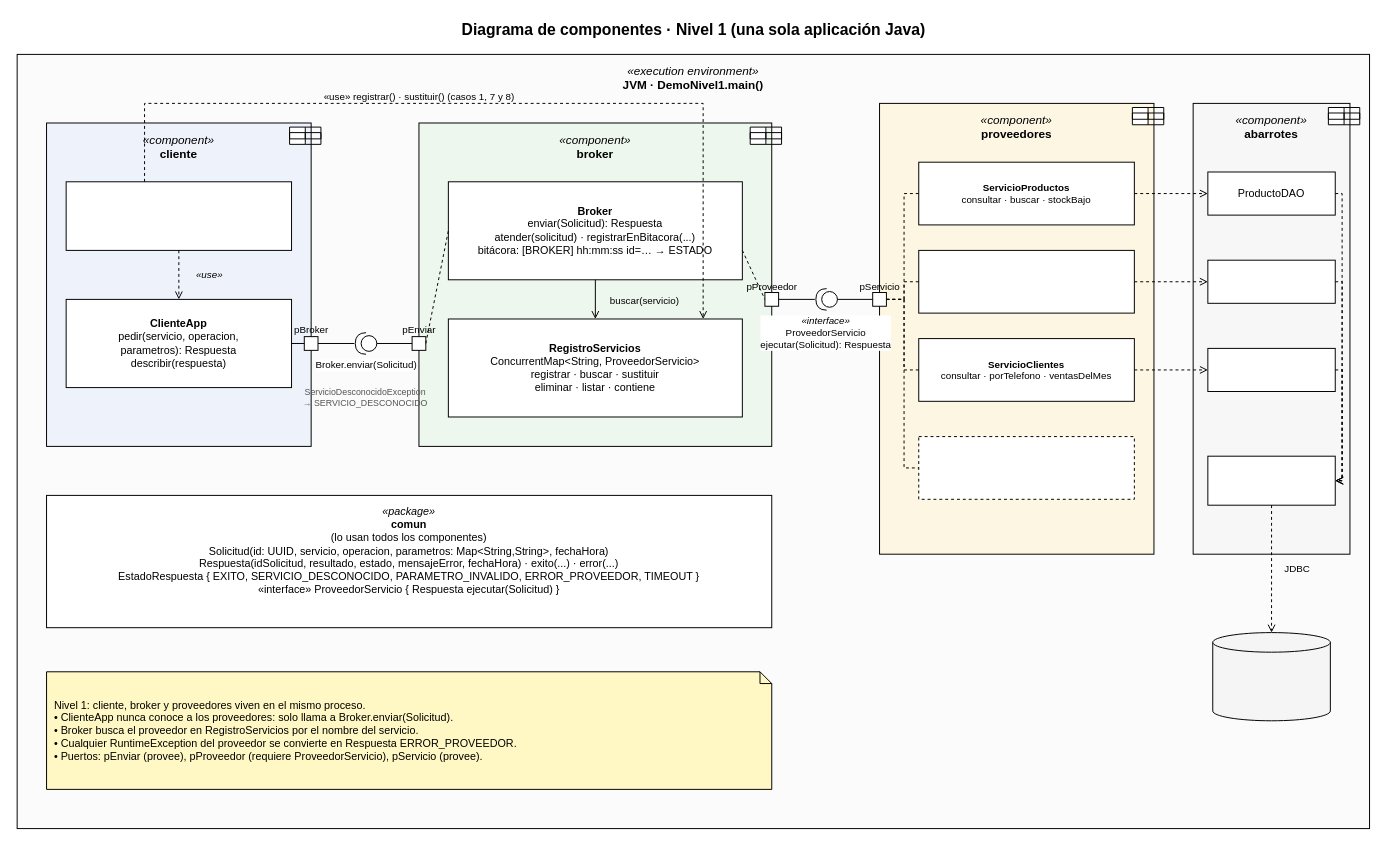
This 1387x846 diagram has some shape labels left out. Here are the shapes that lost their labels. From the top down, the box of each, then its label:
(65, 181, 292, 250): DemoNivel1 main(): ejecuta los 8 casos
(918, 249, 1134, 313): ServicioVentas consultar · totalDelDia
(1207, 259, 1335, 303): VentaDAO
(1207, 347, 1335, 392): ClienteDAO
(918, 436, 1134, 499): ServicioProductosMemoria sustituye a productos (caso 8)
(1207, 455, 1335, 505): ConexionDB
(1212, 632, 1330, 721): data/tienda.db (SQLite)
